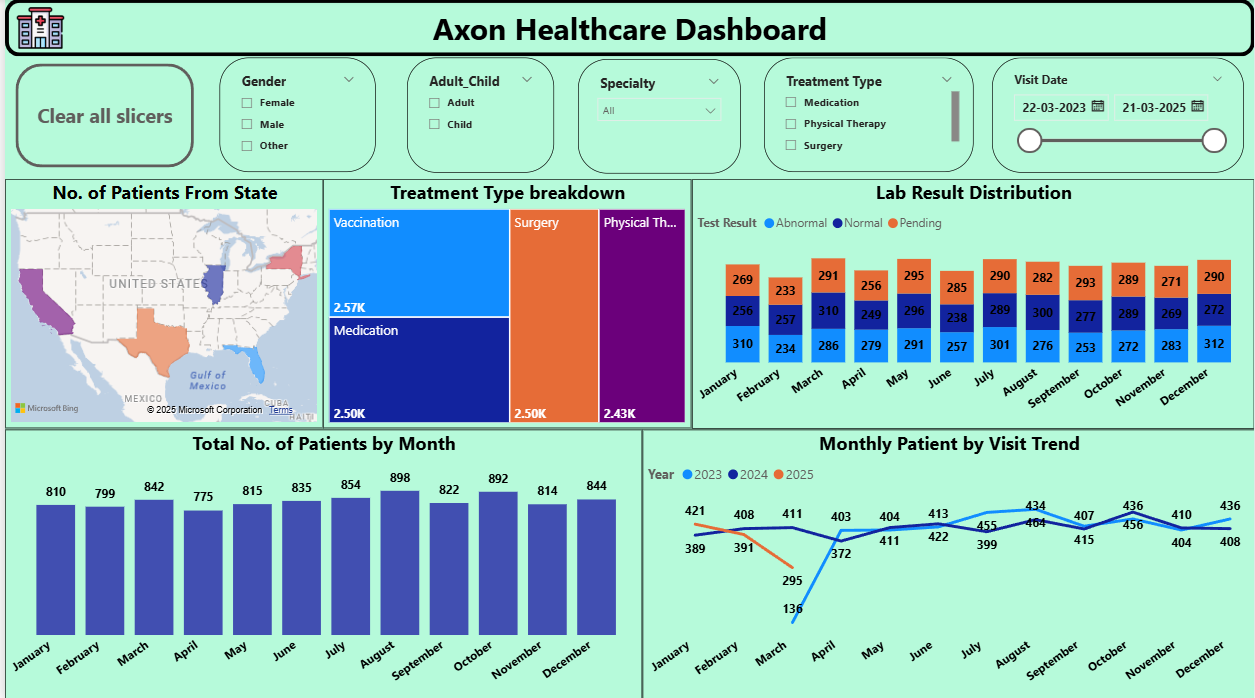

The page's visual inventory and layout, read from the dashboard file:
{"tool":"powerbi","page":{"name":"DashBoard_2","canvas":[1280,720],"ordinal":5},"visuals":[{"type":"lineChart","title":"Monthly Patient by Visit Trend","fields":{"Category":["visit.Visit Date.Variation.Date Hierarchy.Month"],"Y":["CountNonNull(Patient.Patient_ID)"],"Series":["visit.Visit Date.Variation.Date Hierarchy.Year"]},"box":[652.5,440.7,627.7,279.5],"z":0},{"type":"group","id":"g1","title":"Group 1","box":[0,0,1280,58.8],"z":1000},{"type":"slicer","fields":{"Values":["treatments.Treatment Type"]},"box":[777.2,60.2,215,117.2],"z":2000},{"type":"slicer","fields":{"Values":["visit.Visit Date"]},"box":[1011.5,60.2,258,118.2],"z":3000},{"type":"slicer","fields":{"Values":["doctor.Specialty"]},"box":[586.9,61.3,166.6,117.2],"z":4000},{"type":"slicer","fields":{"Values":["Patient.Gender"]},"box":[219.3,60.2,160.2,117.2],"z":5000},{"type":"slicer","fields":{"Values":["Patient.Adult_Child"]},"box":[411.7,60.2,150.5,118.2],"z":6000},{"type":"columnChart","title":"Total No. of Patients by Month","fields":{"Category":["visit.Visit Date.Variation.Date Hierarchy.Month"],"Y":["CountNonNull(Patient.Patient_ID)"]},"box":[0,440.7,652.5,279.5],"z":7000},{"type":"columnChart","title":"Lab Result Distribution","fields":{"Category":["lab_result.Test Date.Variation.Date Hierarchy.Month"],"Y":["CountNonNull(lab_result.Visit ID)"],"Series":["lab_result.Test Result"]},"box":[704.1,184.9,576.2,255.8],"z":8000},{"type":"shape","box":[0,0,1280,58.8],"z":9000,"group":"g1"},{"type":"treemap","title":"Treatment Type breakdown","fields":{"Group":["treatments.Treatment Type"],"Values":["CountNonNull(Patient.Patient_ID)"]},"box":[326.3,185,377.3,255.7],"z":9000},{"type":"image","box":[0,0,72.5,58.8],"z":10000,"group":"g1"},{"type":"actionButton","box":[10.7,65.6,182.7,106.4],"z":10000},{"type":"filledMap","title":"No. of Patients From State","fields":{"Category":["Patient.State"],"Series":["Patient.Patient_ID"]},"box":[0,185,326.3,255.7],"z":11000}]}

Visuals, with their boxes in screenshot pixels (x1, y1, x2, y2), scaled from the page's 1280x720 canvas onto the 1255x698 screenshot:
"Monthly Patient by Visit Trend" lineChart: BBox(640, 427, 1254, 697)
"Group 1" group: BBox(0, 0, 1254, 57)
slicer - treatments.Treatment Type: BBox(762, 58, 973, 172)
slicer - visit.Visit Date: BBox(992, 58, 1245, 173)
slicer - doctor.Specialty: BBox(575, 59, 739, 173)
slicer - Patient.Gender: BBox(215, 58, 372, 172)
slicer - Patient.Adult_Child: BBox(404, 58, 551, 173)
"Total No. of Patients by Month" columnChart: BBox(0, 427, 640, 697)
"Lab Result Distribution" columnChart: BBox(690, 179, 1254, 427)
shape: BBox(0, 0, 1254, 57)
"Treatment Type breakdown" treemap: BBox(320, 179, 690, 427)
image: BBox(0, 0, 71, 57)
actionButton: BBox(10, 64, 190, 167)
"No. of Patients From State" filledMap: BBox(0, 179, 320, 427)
